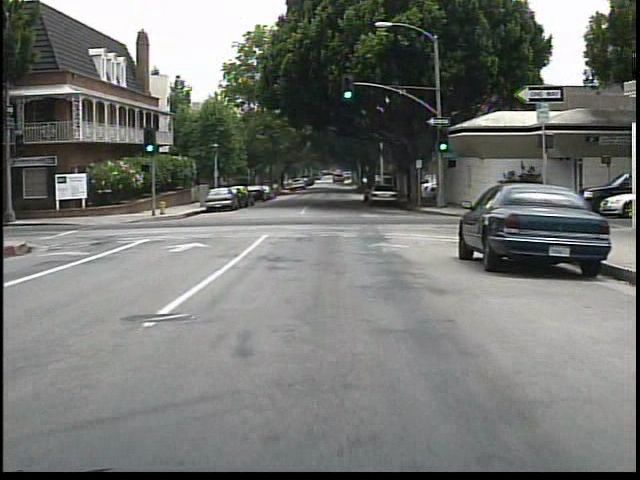person: (517, 170, 542, 215)
